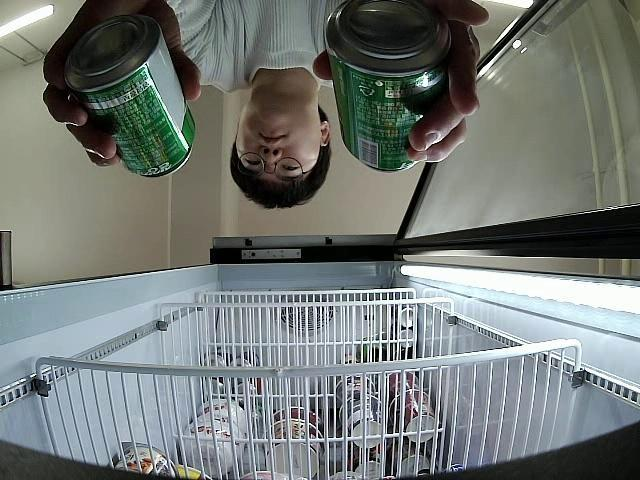12_chilsungCider: (62, 15, 196, 178), (323, 1, 450, 172)
